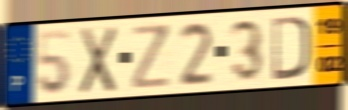2: (177, 20, 215, 88)
3: (229, 17, 266, 83)
5: (37, 26, 74, 98)
D: (271, 14, 312, 83)
X: (78, 24, 119, 97)
Z: (131, 21, 172, 92)
